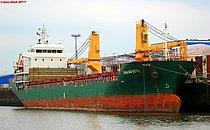Ship: (6, 22, 200, 117)
